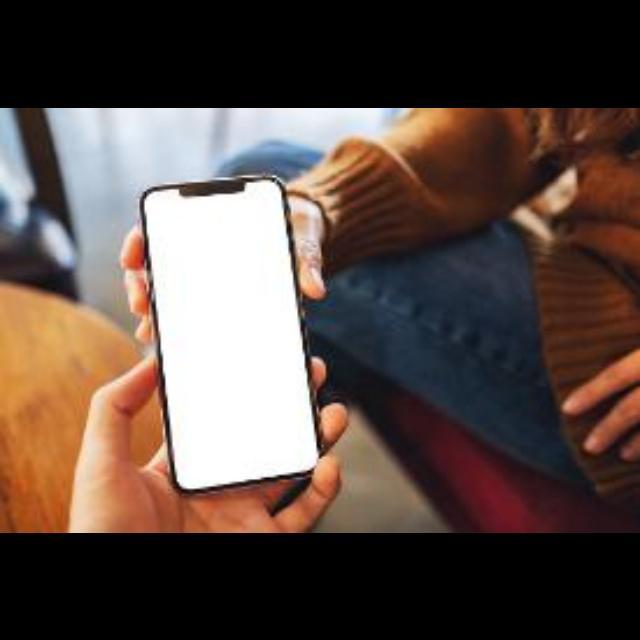Phone: (140, 172, 326, 493)
